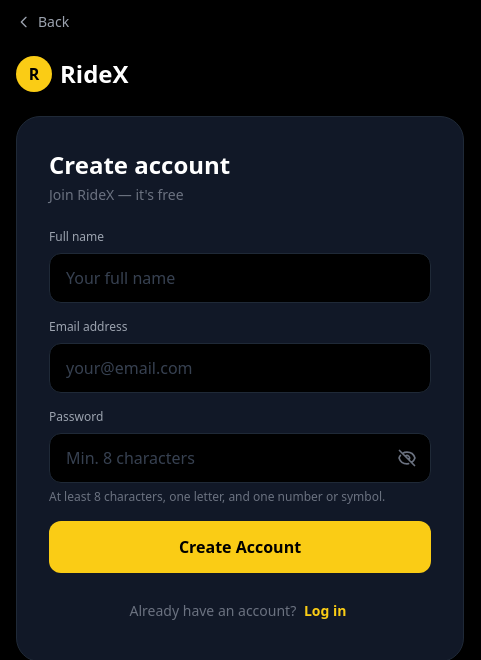
Register page › shows error when name is too short
Type "A" into the field with placeholder "Your full name" at (240, 278), box [49,253,431,303]
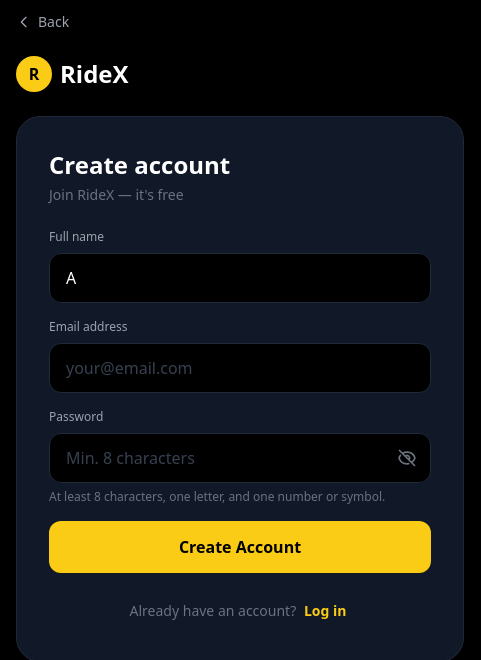
Type "a@b.com" into the field with placeholder "your@email.com" at (240, 368), box [49,343,431,393]
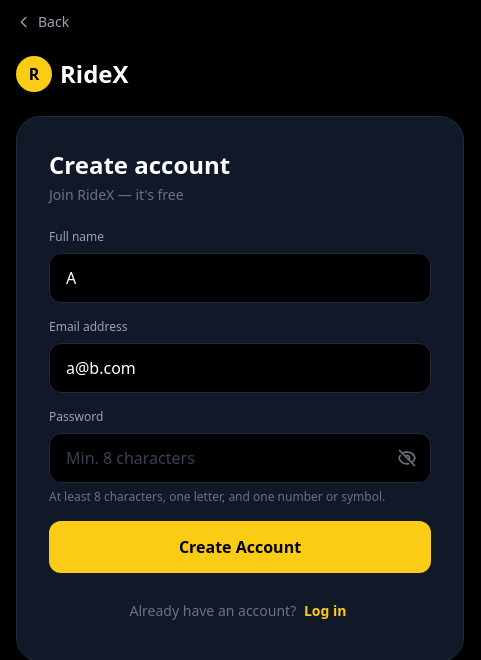
Type "Password1!" into the password field with placeholder "Min. 8 characters" at (240, 458), box [49,433,431,483]
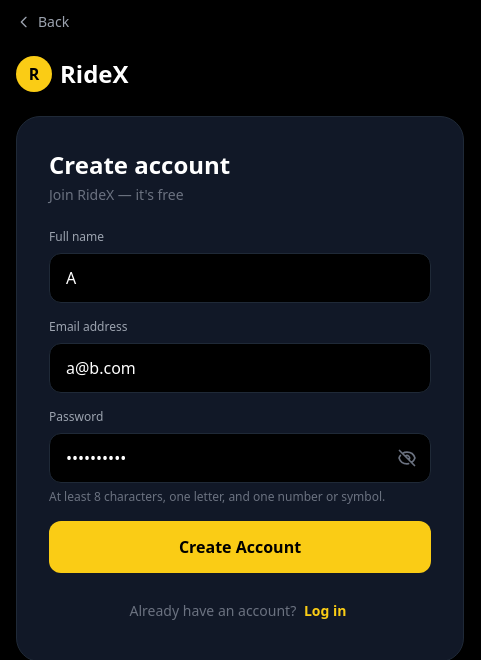
Click the button "Create Account" at (240, 547), box [49,521,431,573]
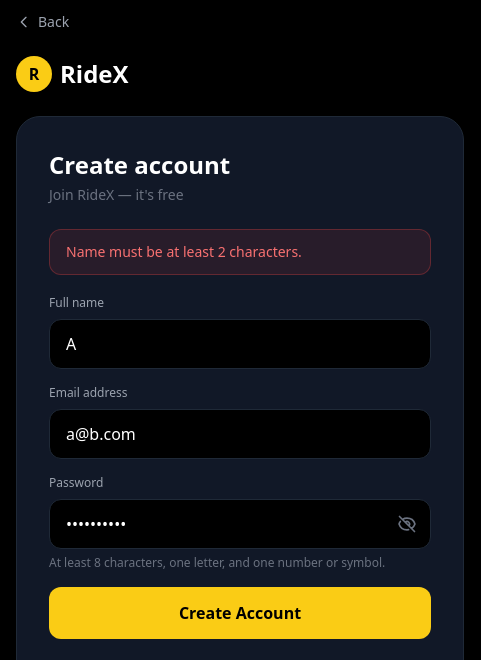
Result: the text "Name must be at least 2 characters." is shown at [66,242,302,261]
